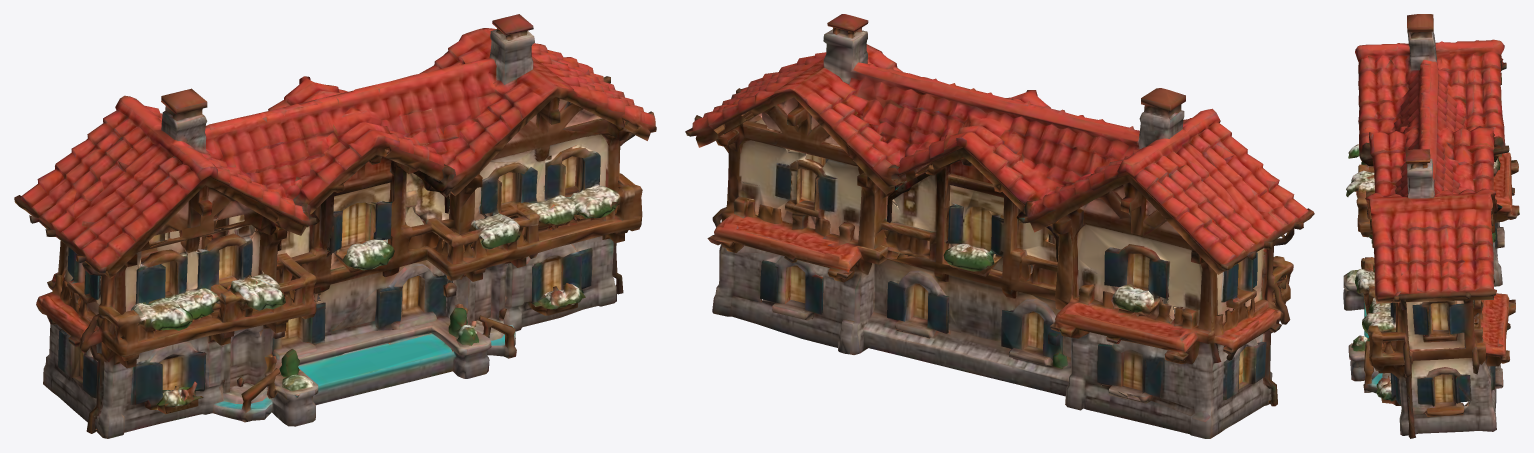
3 views of the same model, side by side, from view 1: azimuth 30°, elevation 25°; view 2: azimuth 150°, elevation 25°; view 3: azimuth 270°, elevation 25° (orthographic). The views are drawn at different scales.
Visible parts, largest first — view 1: alpine__onsen_2__native_mobile; view 2: alpine__onsen_2__native_mobile; view 3: alpine__onsen_2__native_mobile.
Boxes of the visible parts, box(x1,y1,x2,y2) form: alpine__onsen_2__native_mobile: box(14, 14, 656, 438); alpine__onsen_2__native_mobile: box(685, 14, 1314, 438); alpine__onsen_2__native_mobile: box(1343, 14, 1519, 438).
Bounding box in the file's own units: 1 × 0.5217 × 0.319.
Materials: 1 (1 with a texture image).
